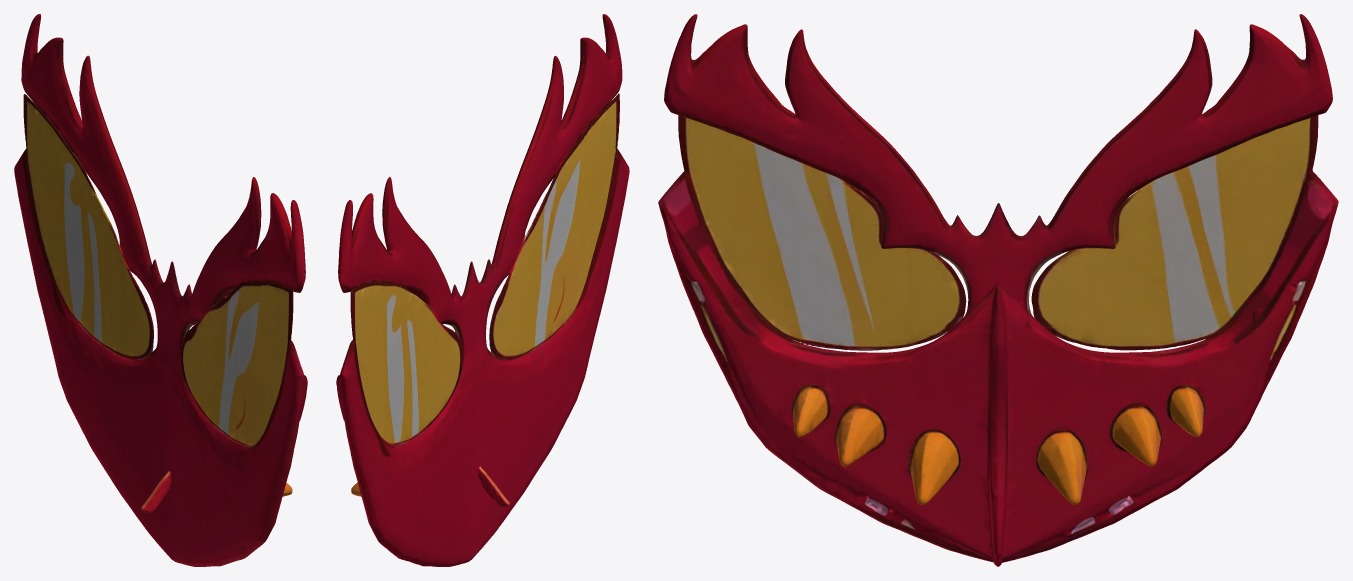
File: 11_001_Mask_Yama-Mask.glb
3 views of the same model, side by side, from view 1: azimuth 30°, elevation 25°; view 2: azimuth 150°, elevation 25°; view 3: azimuth 270°, elevation 25° (orthographic). The views are drawn at different scales.
Parts seen in each view (by area): view 1: tripo_node_3028c005-0ea3-45cc-a754-8aa6db577046; view 2: tripo_node_3028c005-0ea3-45cc-a754-8aa6db577046; view 3: tripo_node_3028c005-0ea3-45cc-a754-8aa6db577046.
Part boxes in pixels (x1=…): tripo_node_3028c005-0ea3-45cc-a754-8aa6db577046: x1=14, y1=14, x2=307, y2=566; tripo_node_3028c005-0ea3-45cc-a754-8aa6db577046: x1=336, y1=14, x2=629, y2=566; tripo_node_3028c005-0ea3-45cc-a754-8aa6db577046: x1=658, y1=14, x2=1338, y2=566.
Bounding box in the file's own units: 0.1681 × 0.8822 × 1.
Materials: 1 (1 with a texture image).
